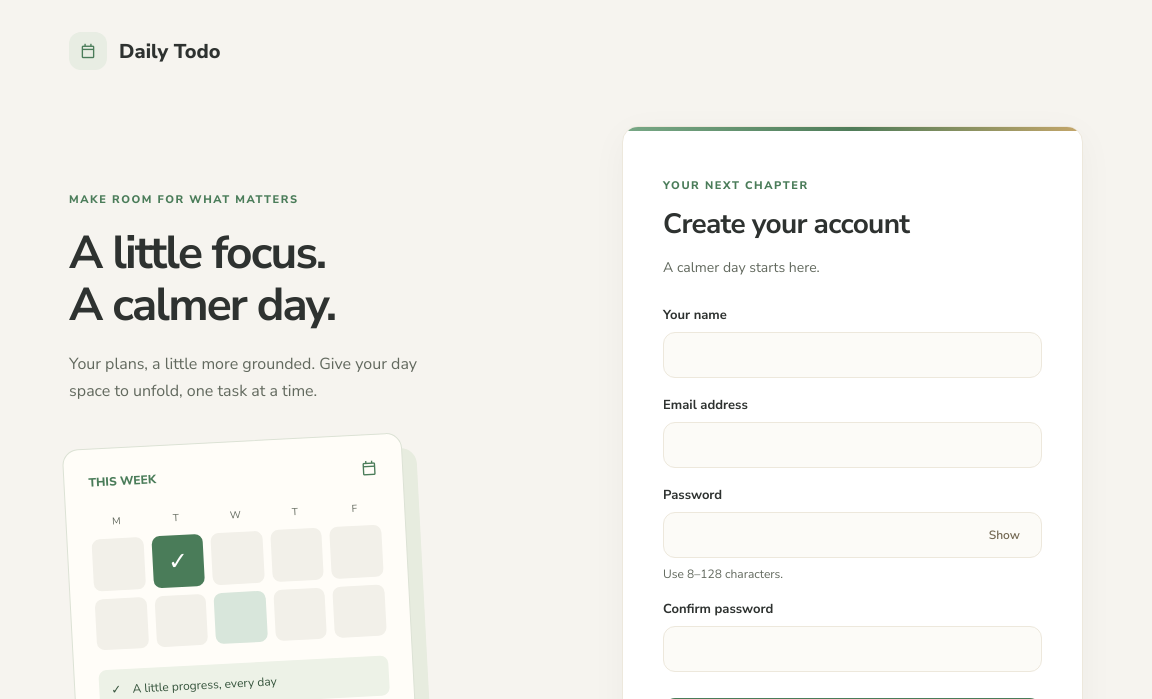
Test: AuthPageComponent › shows registration request errors for status 409
Type "Ada" into the field labelled "Your name" at [852, 355], box [663,332,1042,378]
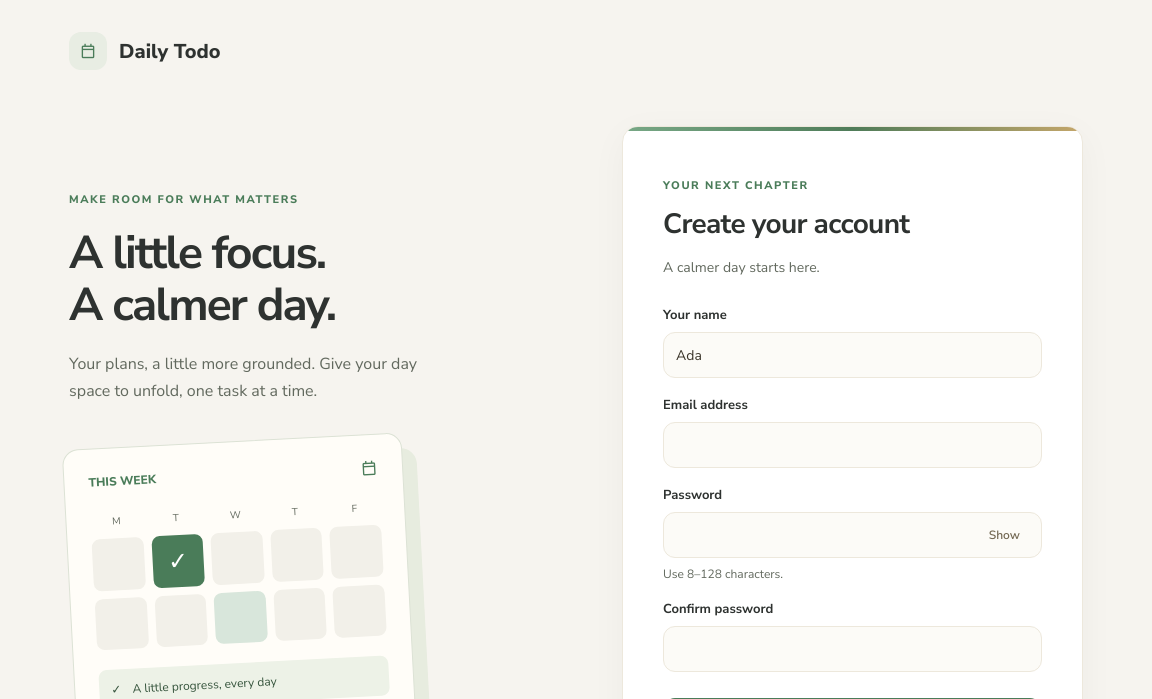
Type "ada@example.com" into the field with id "email" at [852, 445], box [663,422,1042,468]
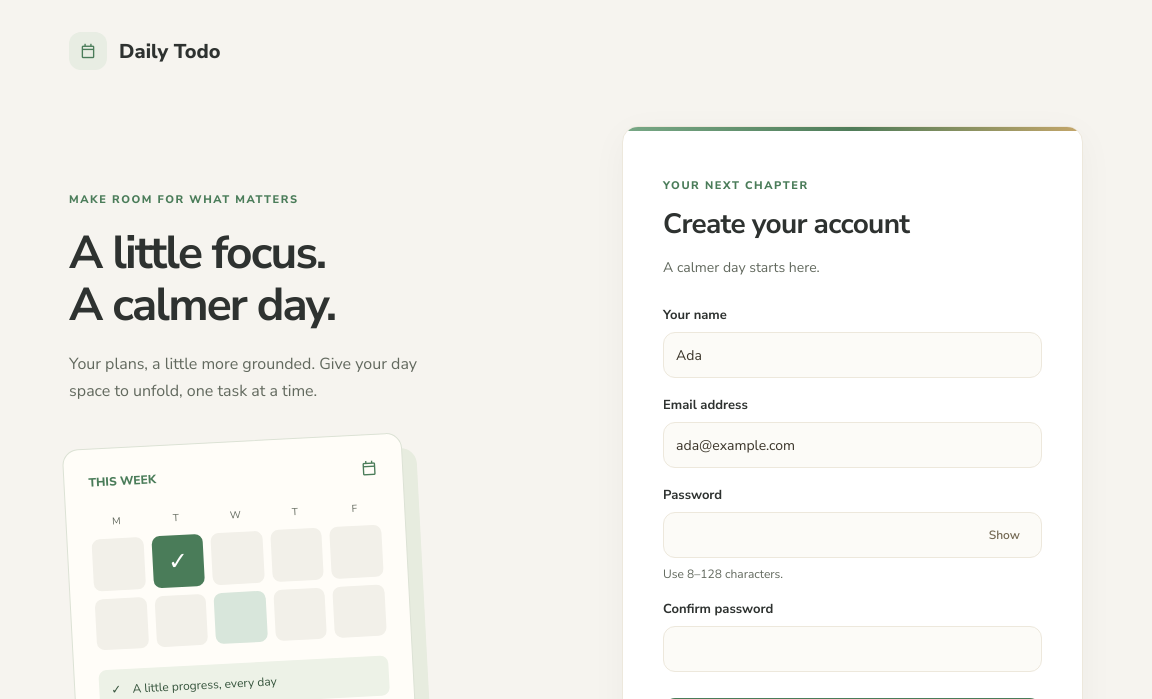
Type "twelve-chars!" into the password field labelled "Password" at [852, 535], box [663,512,1042,558]
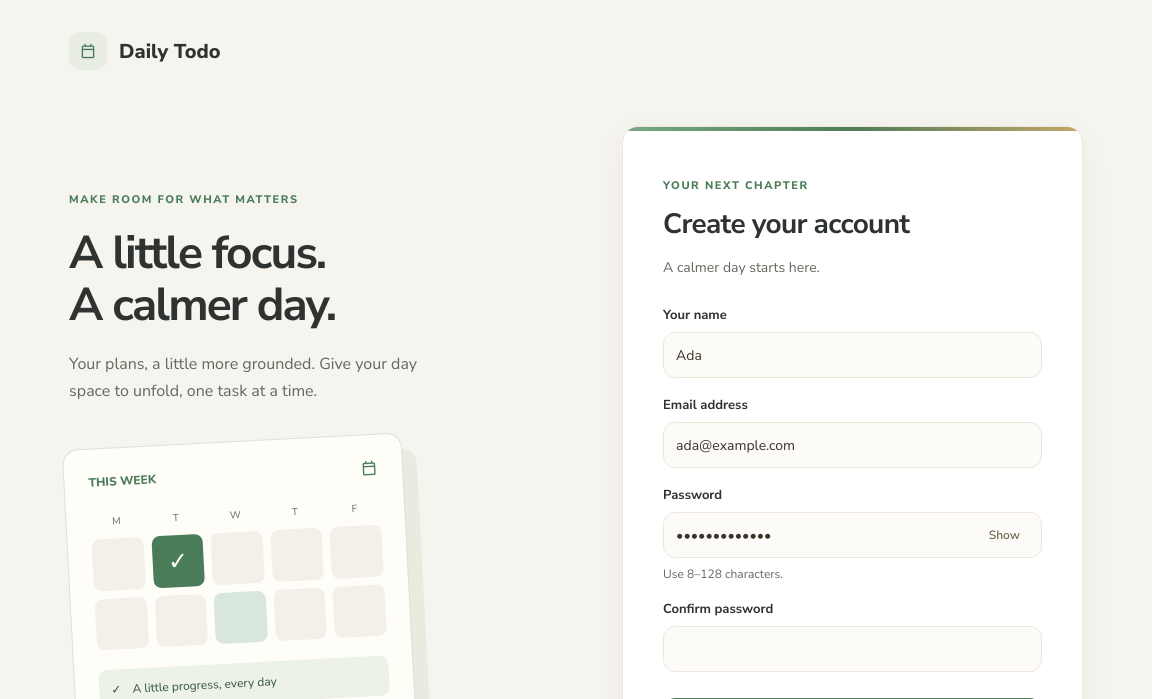
Type "twelve-chars!" into the password field with id "confirmation" at [852, 649], box [663,626,1042,672]
(page scrolled)
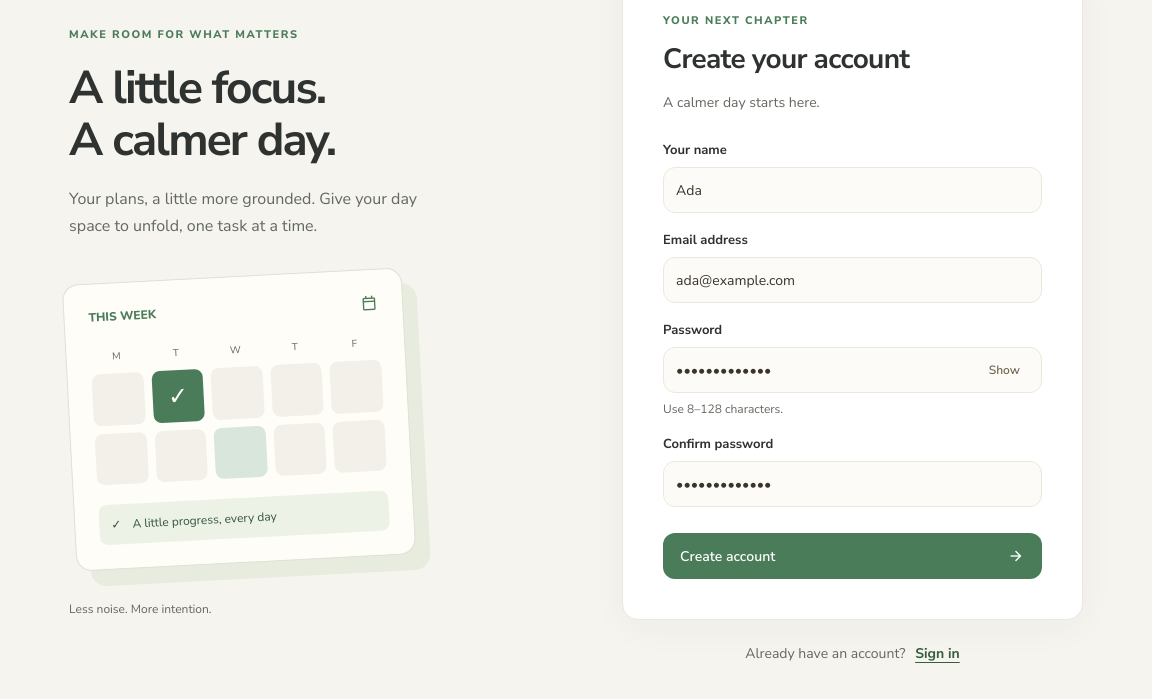
Submit the form, box [663,141,1042,579]
(page scrolled)
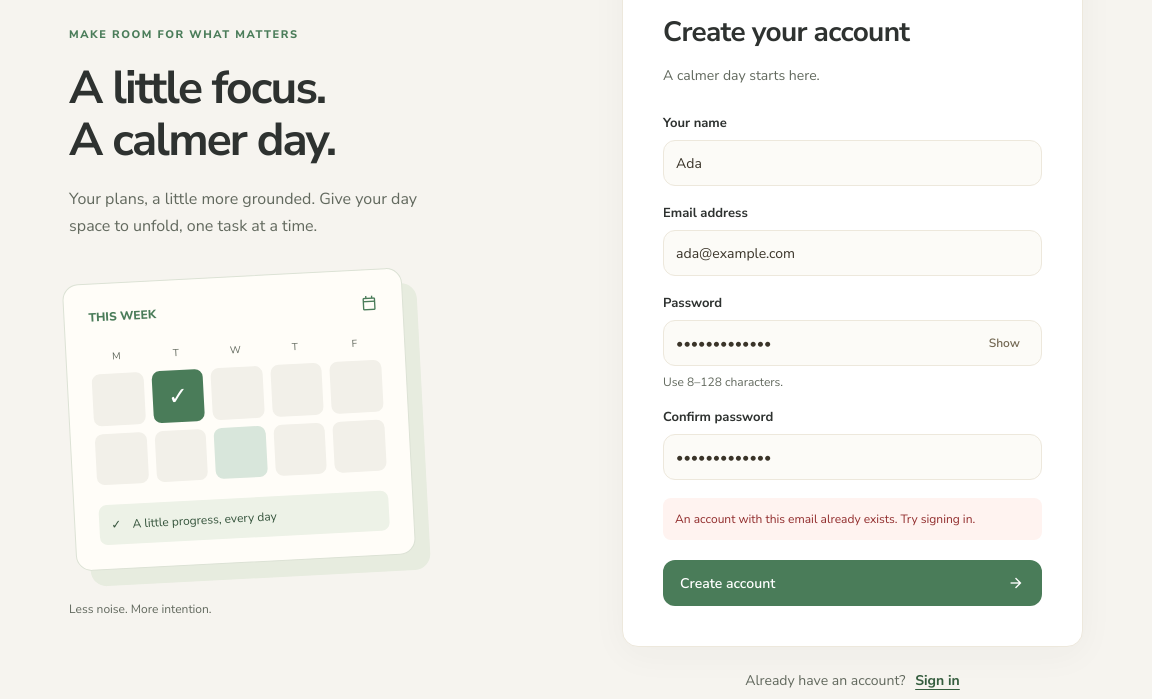
expect the message "An account with this email already exists. Try signing in." is shown: met, box [663,498,1042,540]
